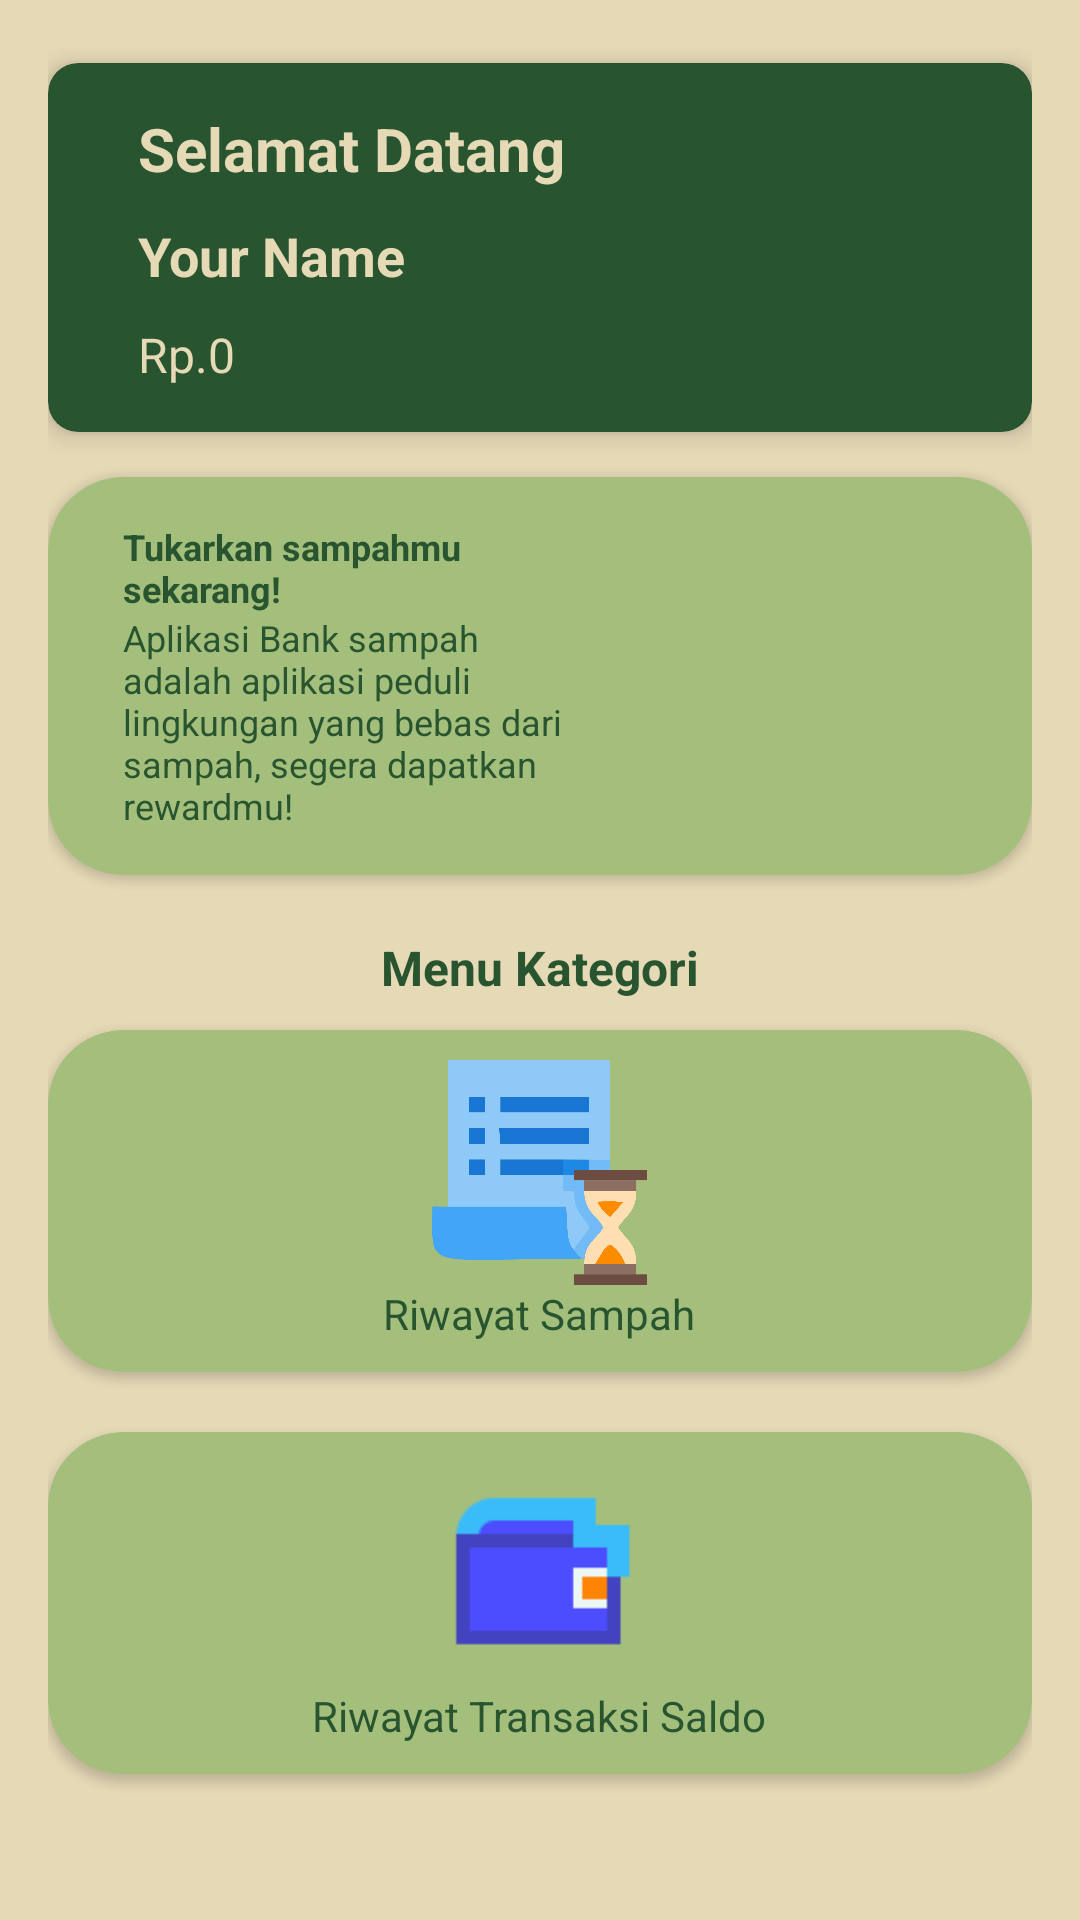

Screen size 1080*1920. Icon name, then its center in pixels as (x=x, y=y):
wallet: (x=543, y=1571)
